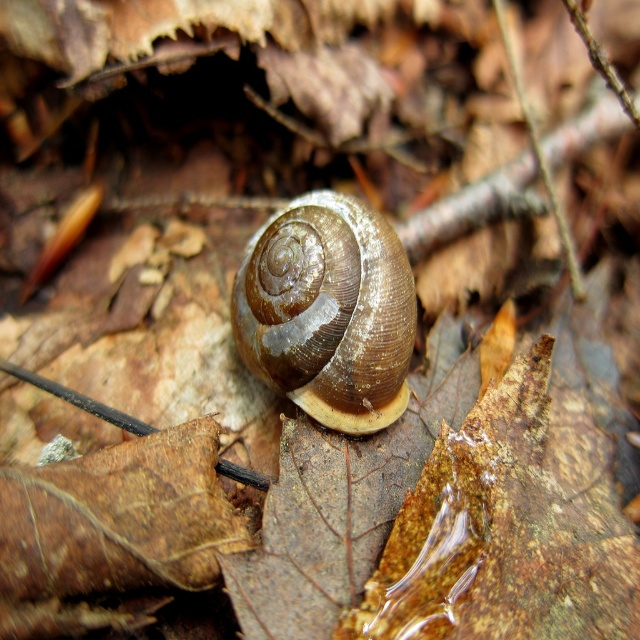Snail: (223, 191, 422, 447)
